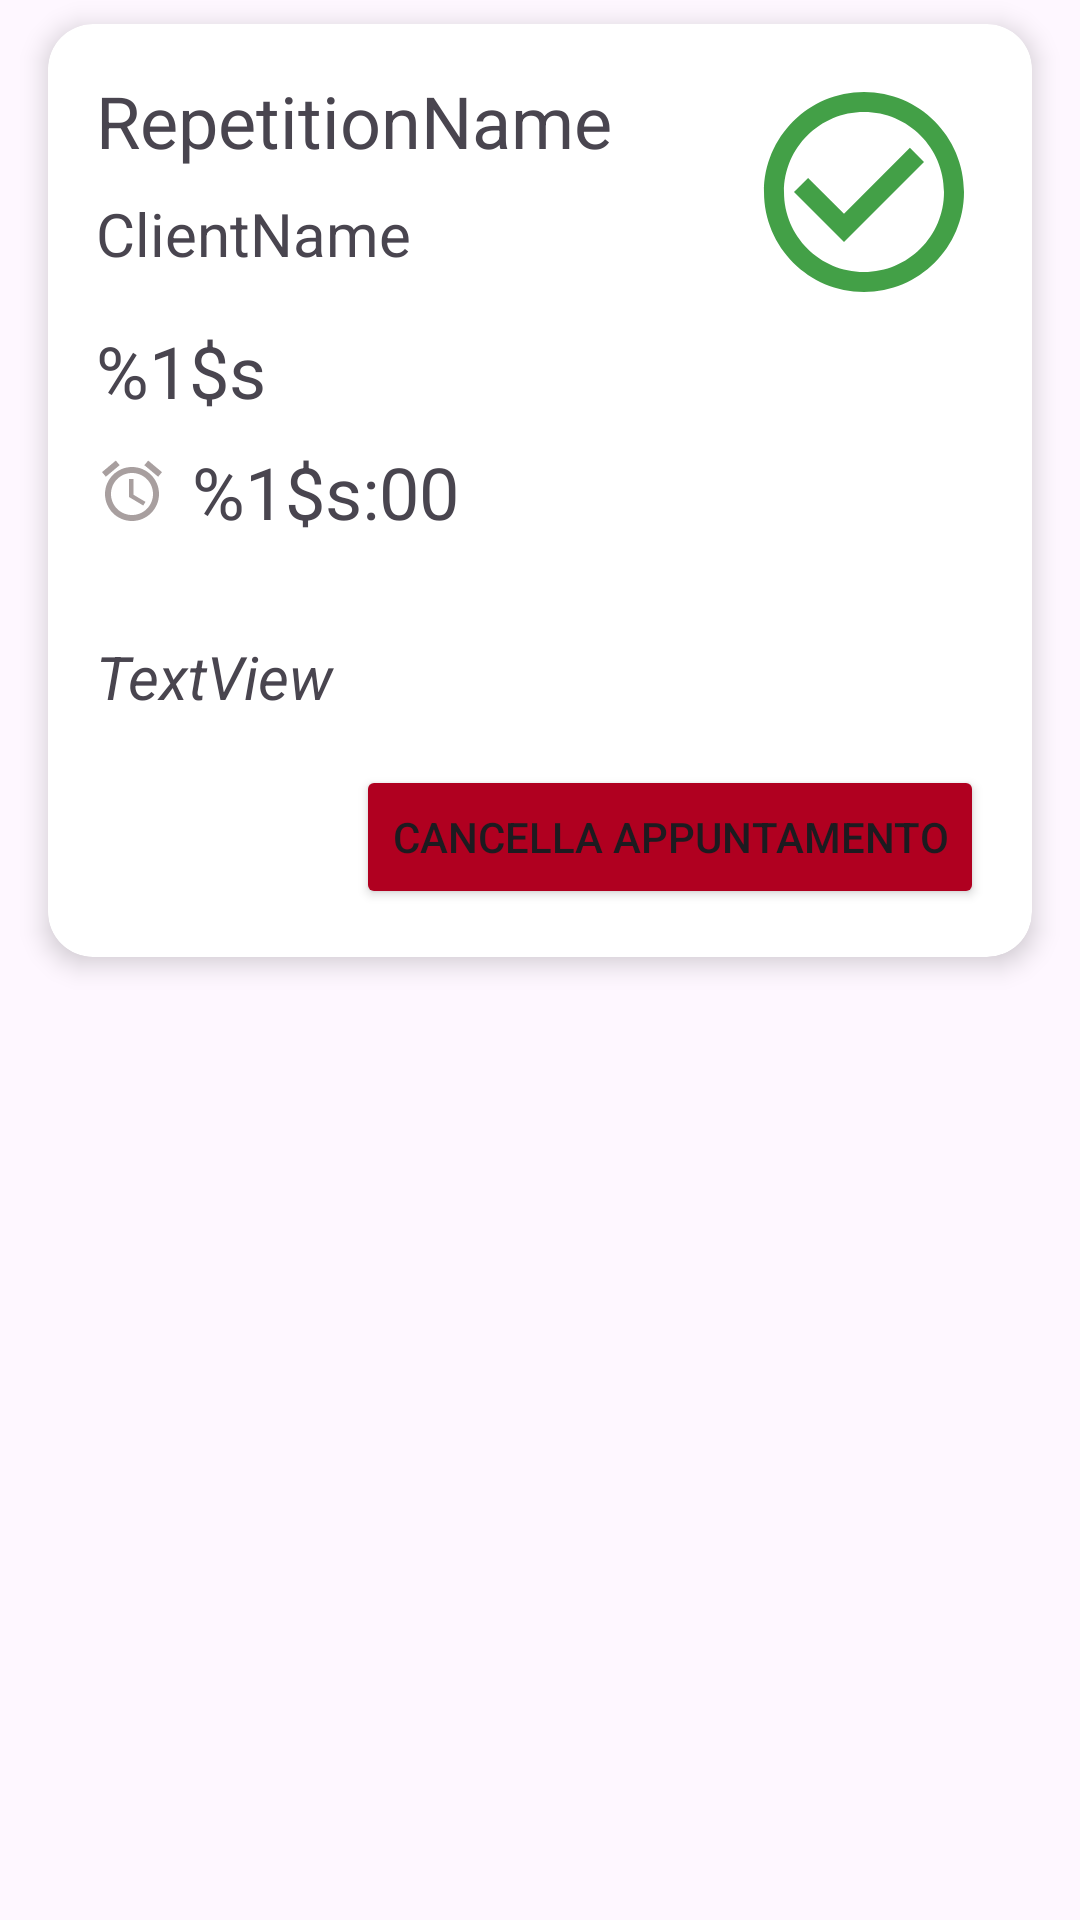

Locate icon controls on the screen. Image size 1080×1920, boxes as rect(x1, y1, x2, y2).
accepted request: rect(764, 92, 964, 292)
